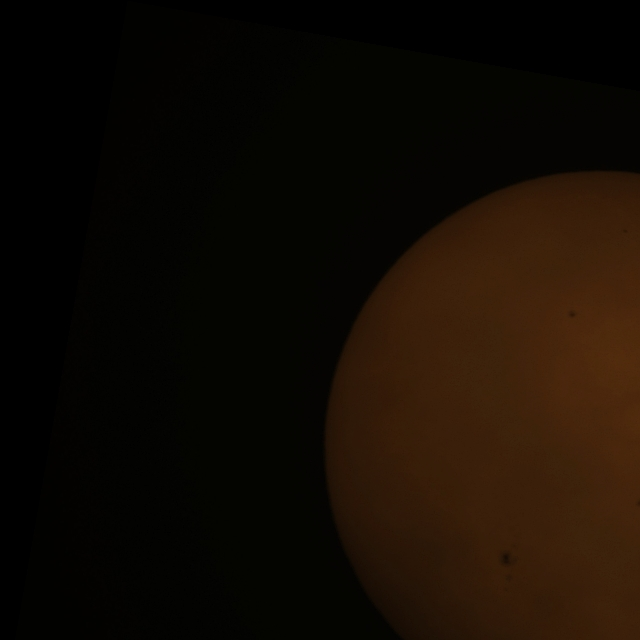sunspot: (498, 549, 520, 570), (568, 309, 578, 320)
